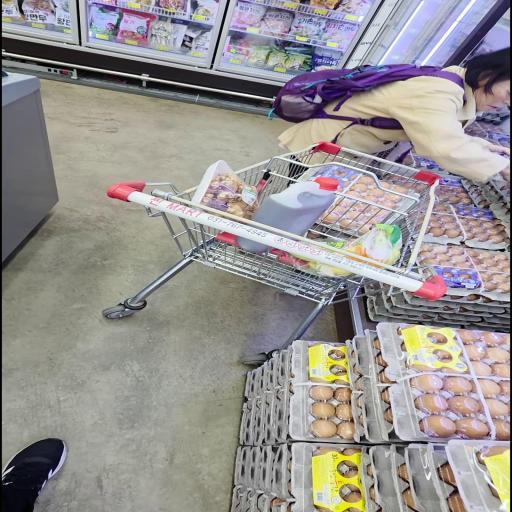fully_cart: (96, 143, 450, 363)
